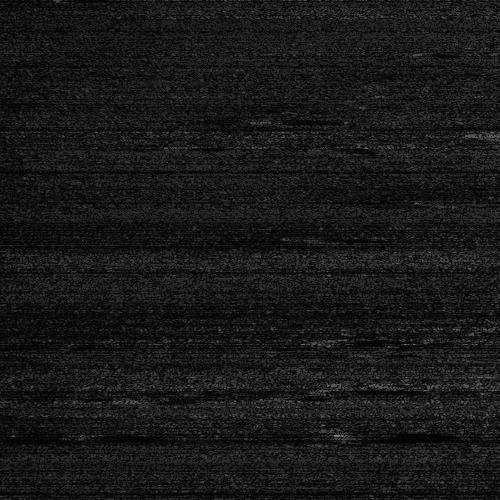object: (332, 429, 395, 440), (464, 128, 500, 143), (408, 196, 471, 203), (316, 338, 379, 343)
shadow: (364, 429, 445, 440), (439, 196, 500, 203), (348, 338, 385, 343)
